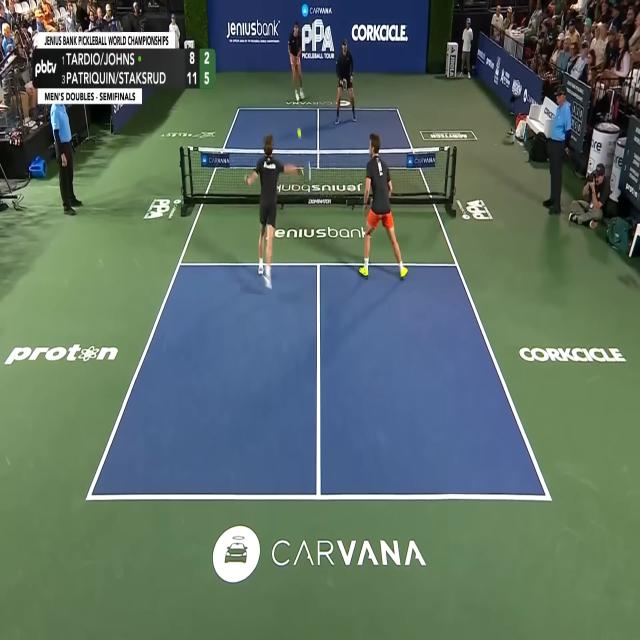ball: (296, 127, 302, 140)
